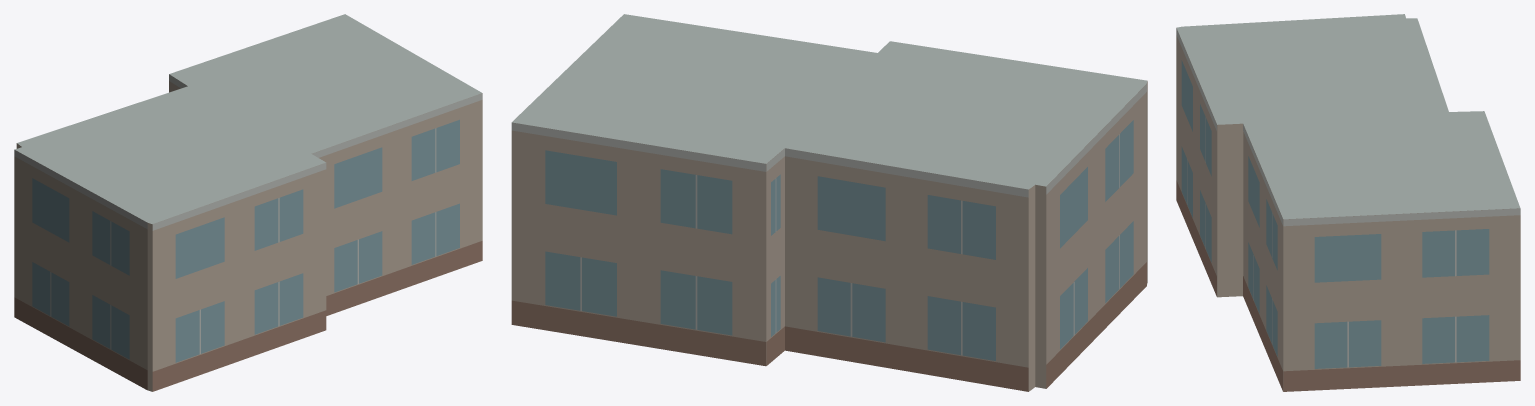
File: survey-upis-32983717.glb
The picture shows the model from 3 angles, left to right: view 1: azimuth 30°, elevation 25°; view 2: azimuth 150°, elevation 25°; view 3: azimuth 270°, elevation 25°; orthographic projection. The views are drawn at different scales.
Parts seen in each view (by area): view 1: survey-upis-32983717.tmp; view 2: survey-upis-32983717.tmp; view 3: survey-upis-32983717.tmp.
Boxes of the visible parts, left/top/right/bottom form: survey-upis-32983717.tmp: left=14, top=14, right=482, bottom=391; survey-upis-32983717.tmp: left=511, top=14, right=1147, bottom=391; survey-upis-32983717.tmp: left=1176, top=14, right=1520, bottom=391.
Size of the model in its own units: 15.58 by 6.1 by 11.04.
